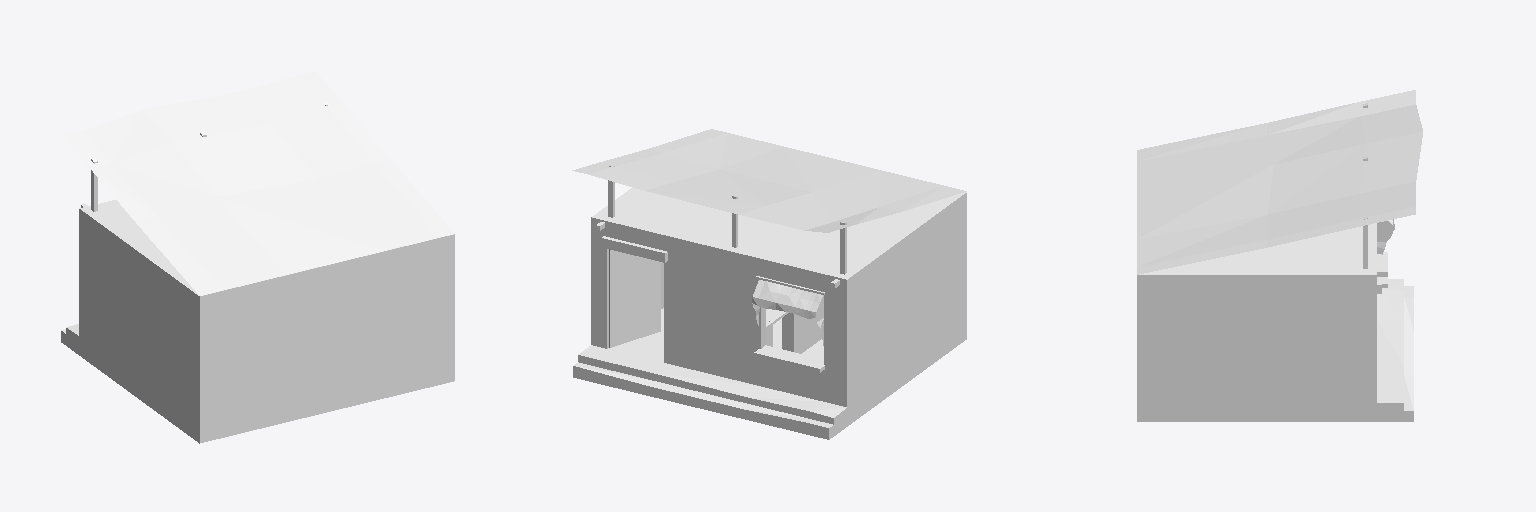
Rendered from BuildingT.obj.
3 renders of one model, left to right at view 1: azimuth 30°, elevation 25°; view 2: azimuth 150°, elevation 25°; view 3: azimuth 270°, elevation 25°, orthographic.
Parts seen in each view (by area): view 1: BuildingT; view 2: BuildingT; view 3: BuildingT.
Boxes of the visible parts, <box> form: BuildingT: <box>60,71,454,443</box>; BuildingT: <box>572,129,966,439</box>; BuildingT: <box>1137,90,1422,421</box>.
Bounding box in the file's own units: 203 × 158 × 197.